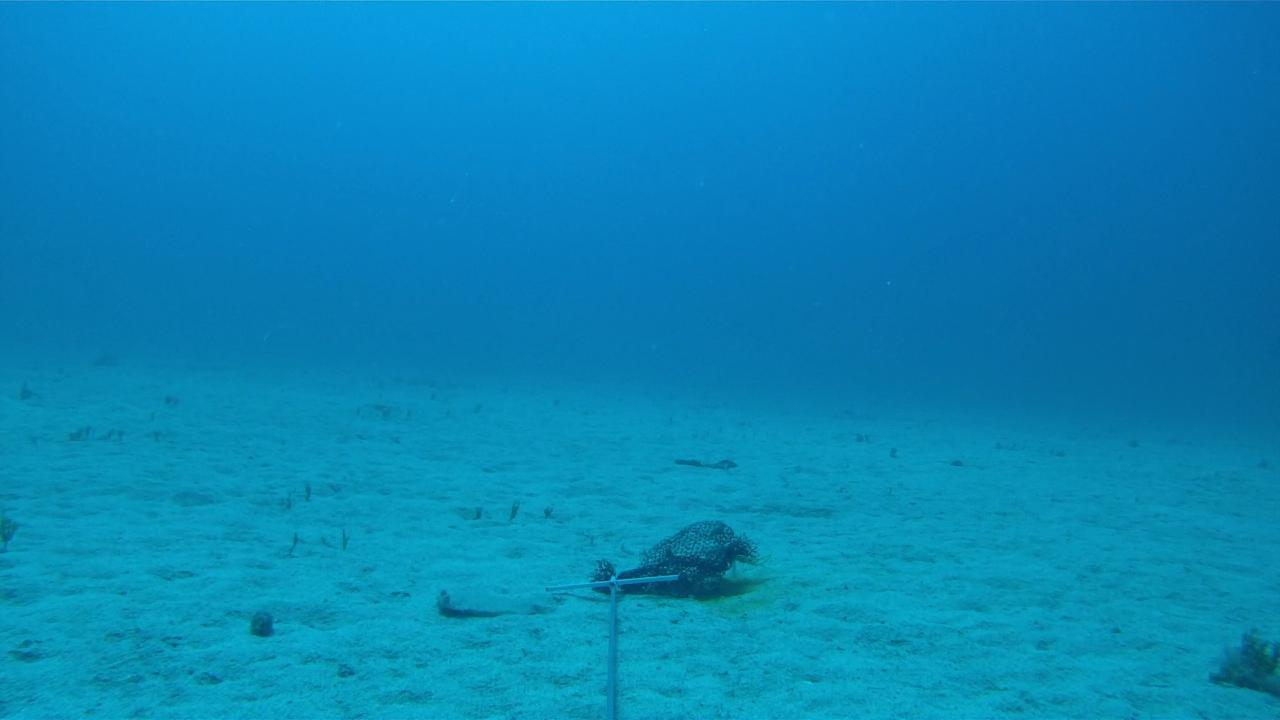bothus: (433, 583, 564, 618)
